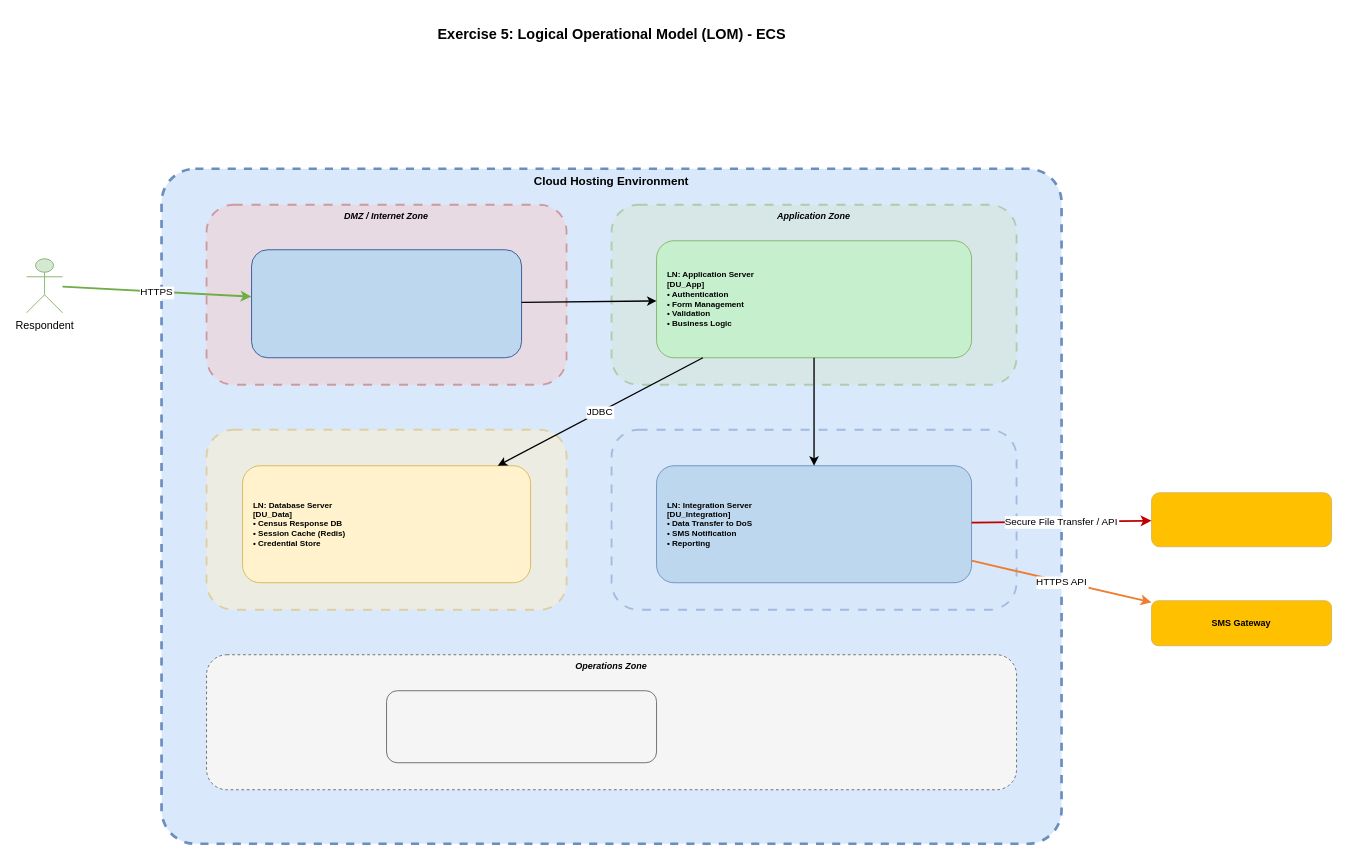
Image size: 1347x860. Some labels were removed from this diagram. The shapes that lost their labels are listed below. From the top down, each one's box as (x1, y1, x2, y2) in pixels, then its label:
(251, 249, 522, 358): LN: Web Server [DU_Web] • Load Balancer • WAF/CDN • Session handling
(205, 428, 567, 610): Data Zone
(610, 428, 1017, 610): Integration Zone
(1151, 492, 1332, 547): DoS Electronic Census Processing
(386, 690, 657, 763): LN: Monitoring & Ops • APM, Logging, Alerting • Bastion Host
